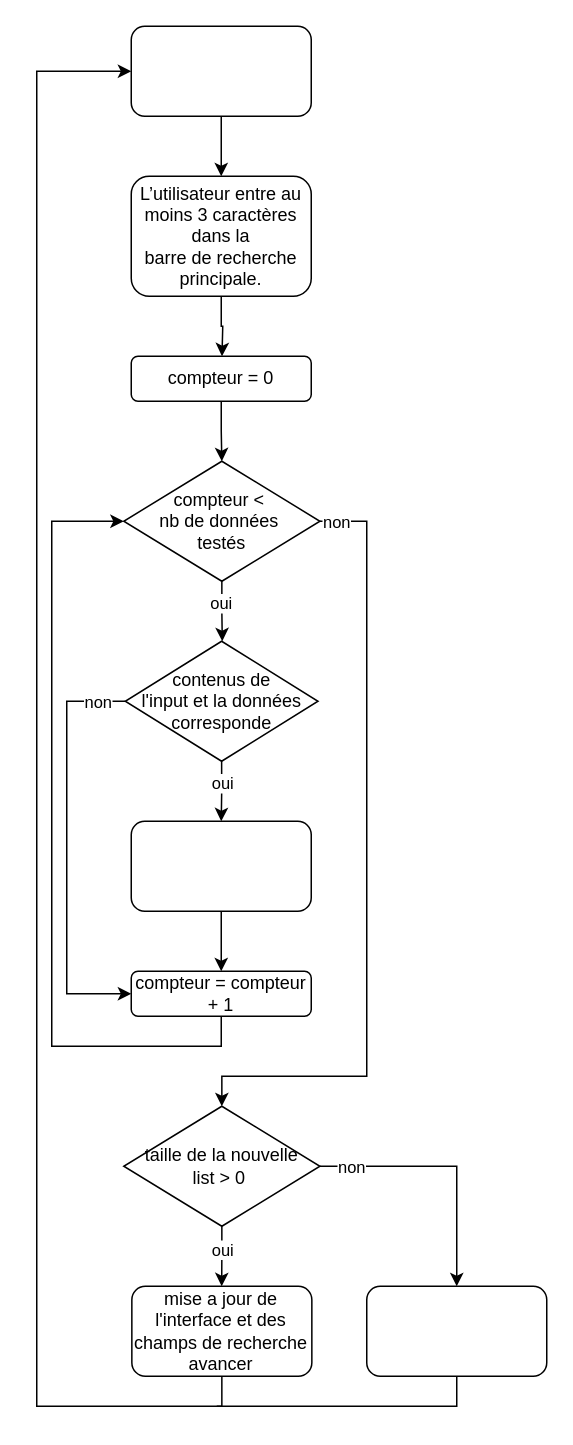
The diagram is 573 pixels wide and 1445 high, and some of its shapes have lost their labels. The centre of each missing label's shape, as x and y in pixels:
Affichage "Aucune recette correspondante": point 456,1330
Ajout de la recettes a la nouvelle liste de recette: point 220,865
wait: point 220,70
